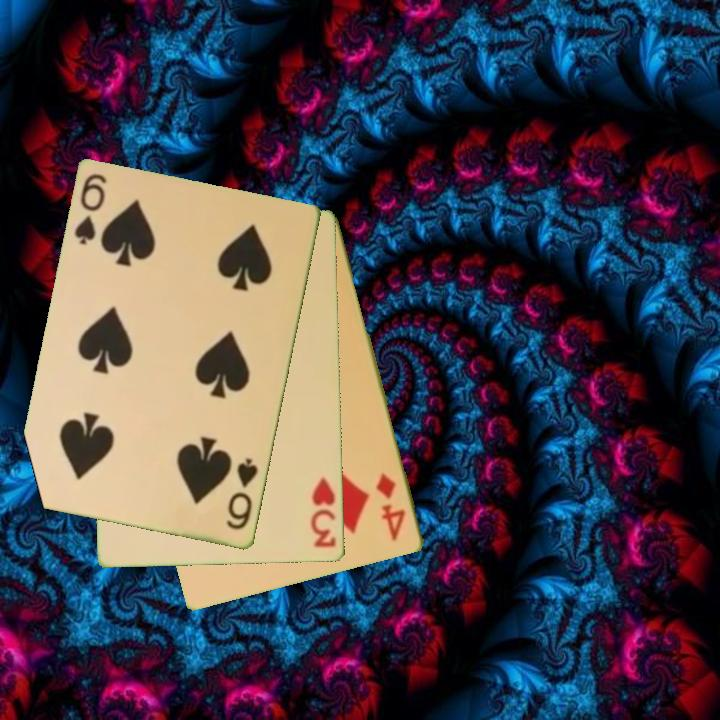3h: (308, 474, 339, 551)
4d: (373, 468, 409, 544)
6s: (71, 170, 110, 248), (223, 455, 261, 533)
